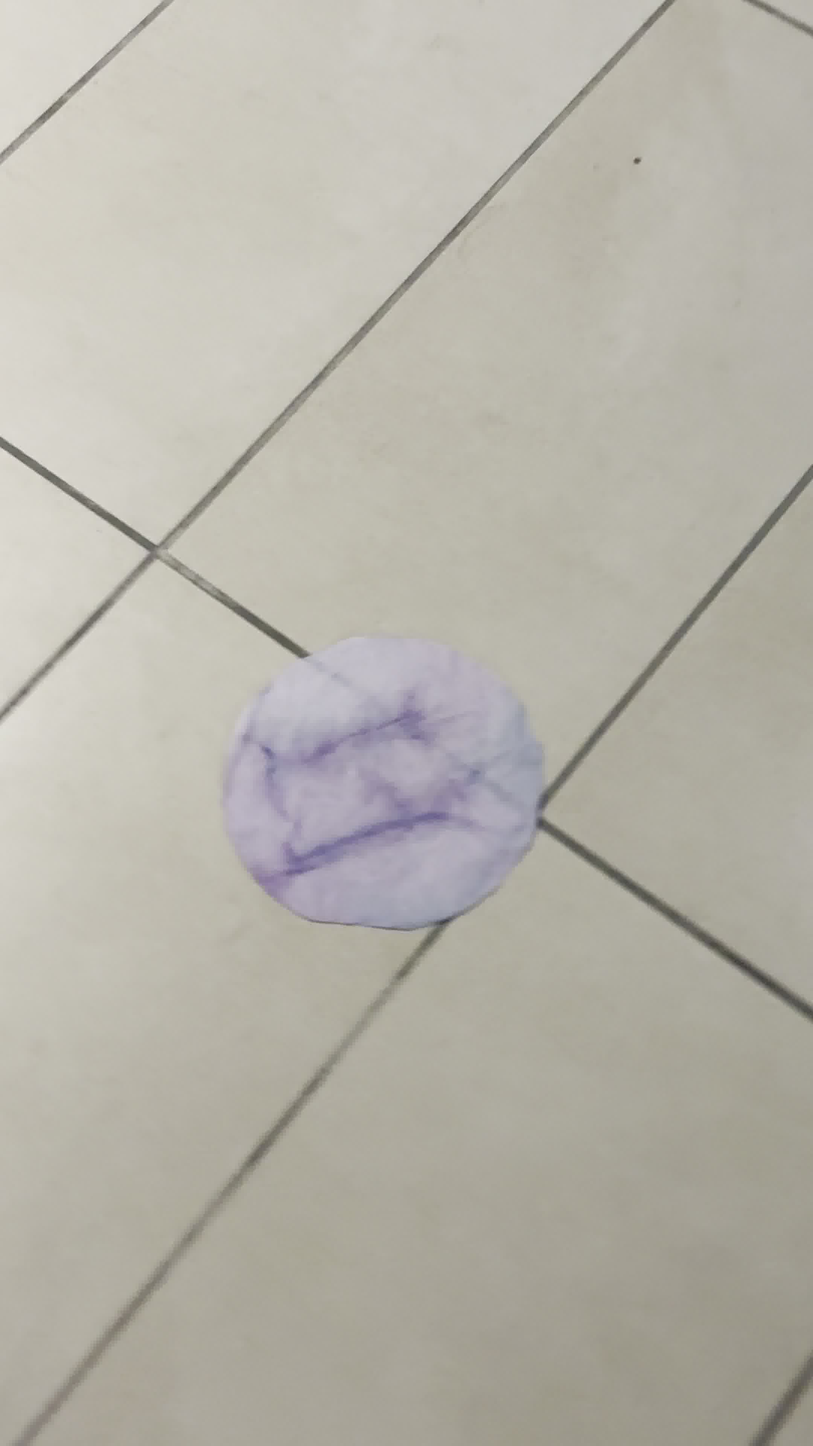Target: (220, 629, 545, 930)
